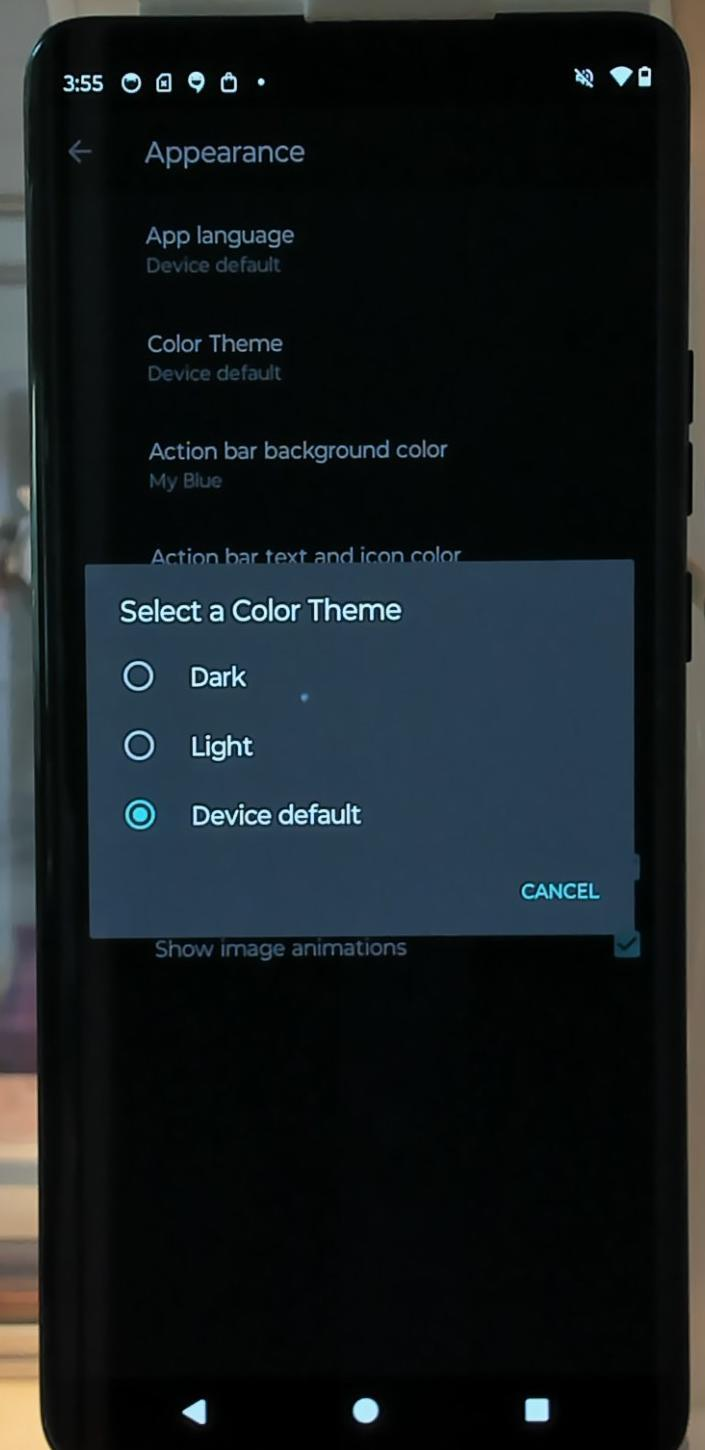CommunBotton: (344, 1388, 381, 1428), (520, 1387, 556, 1428), (177, 1389, 211, 1428)
RadioButton: (119, 789, 369, 841), (117, 652, 255, 703), (119, 722, 258, 765)
